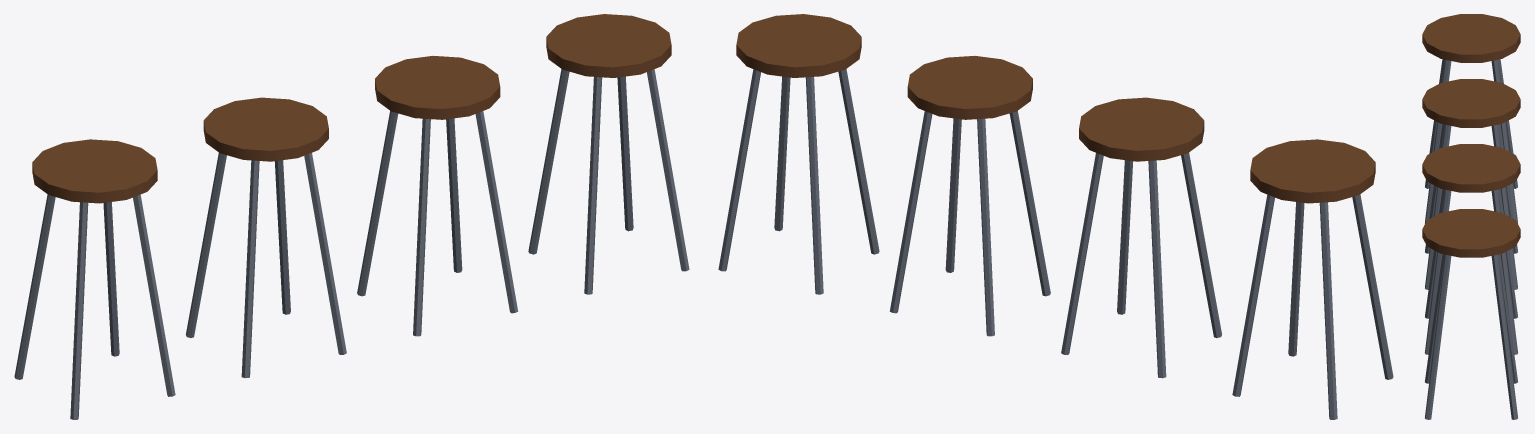
Rendered from school.lab.stools.glb.
3 views of the same model, side by side, from view 1: azimuth 30°, elevation 25°; view 2: azimuth 150°, elevation 25°; view 3: azimuth 270°, elevation 25° (orthographic). The views are drawn at different scales.
Visible parts, largest first — view 1: main__steel_painted, main__hardwood; view 2: main__steel_painted, main__hardwood; view 3: main__hardwood, main__steel_painted.
Boxes of the visible parts, x1,y1,x2,y2 form: main__steel_painted: (14,69,689,419); main__hardwood: (32,14,671,203); main__steel_painted: (718,69,1393,419); main__hardwood: (736,14,1375,203); main__hardwood: (1422,14,1520,257); main__steel_painted: (1425,59,1517,419).
Size of the model in its own units: 1.81 by 0.6168 by 0.32.
